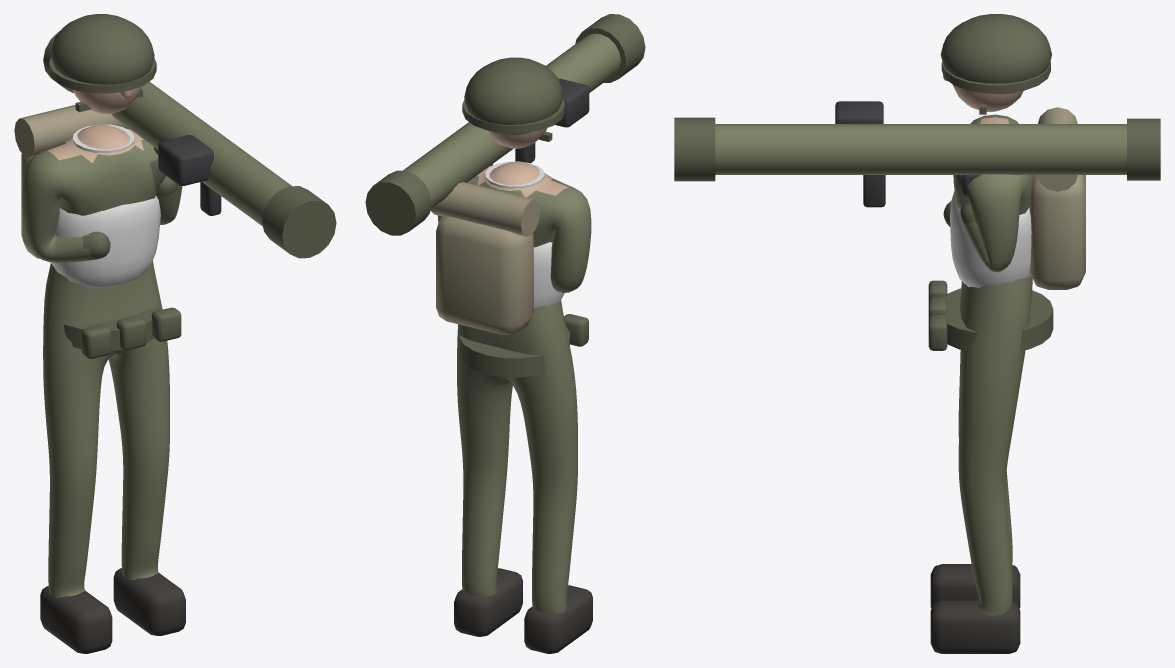
File: stinger.glb
The picture shows the model from 3 angles, left to right: view 1: azimuth 30°, elevation 25°; view 2: azimuth 150°, elevation 25°; view 3: azimuth 270°, elevation 25°; orthographic projection. The views are drawn at different scales.
Parts seen in each view (by area): view 1: body; view 2: body; view 3: body.
Boxes of the visible parts, bbox=[...] form: body: bbox=[14, 14, 336, 653]; body: bbox=[365, 14, 645, 653]; body: bbox=[674, 14, 1160, 653].
Bounding box in the file's own units: 0.4806 × 1.8 × 1.3.
